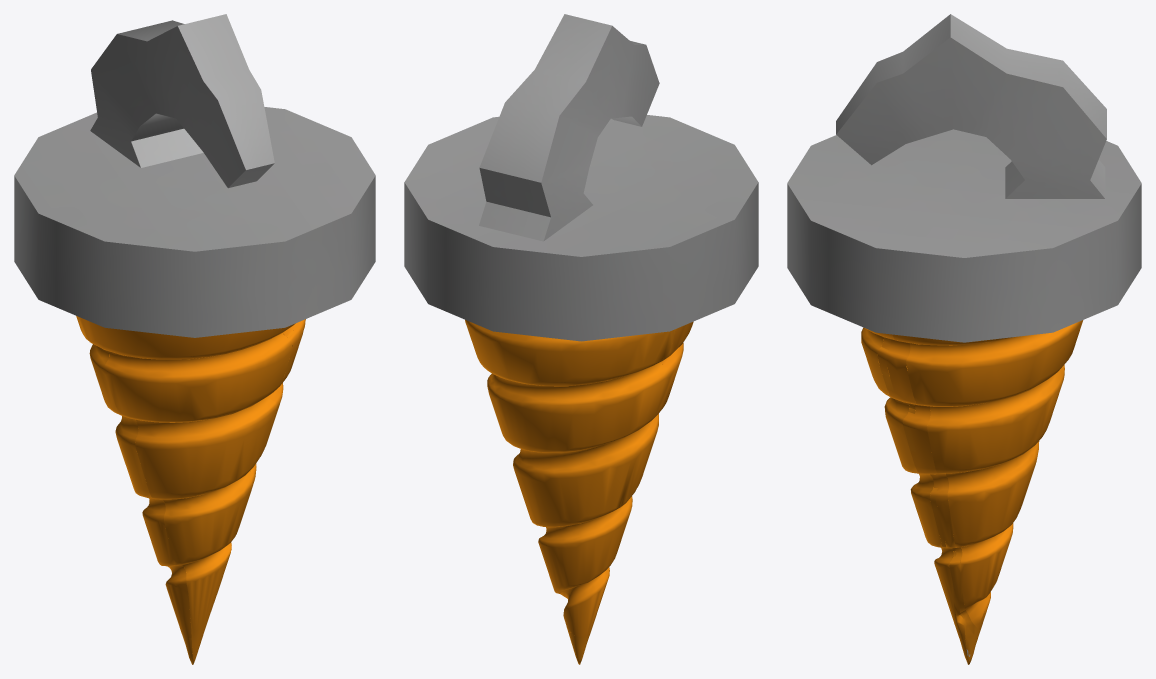
Rendered from drill3.fbx.
3 renders of one model, left to right at view 1: azimuth 30°, elevation 25°; view 2: azimuth 150°, elevation 25°; view 3: azimuth 270°, elevation 25°, orthographic. The views are drawn at different scales.
Visible parts, largest first — view 1: dril3; view 2: dril3; view 3: dril3.
Boxes of the visible parts, box(x1,y1,x2,y2) form: dril3: box(14, 14, 375, 664); dril3: box(404, 14, 758, 664); dril3: box(787, 14, 1141, 664).
Size of the model in its own units: 0.8257 by 1.64 by 0.8257.
